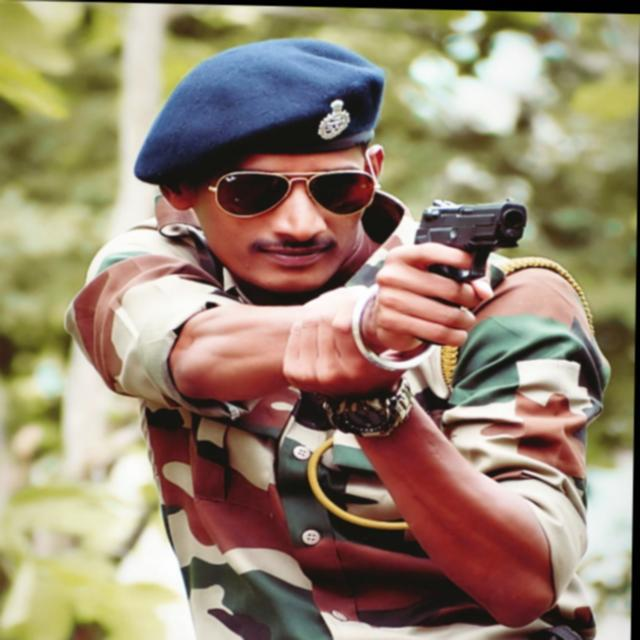weapon: (397, 192, 547, 354)
